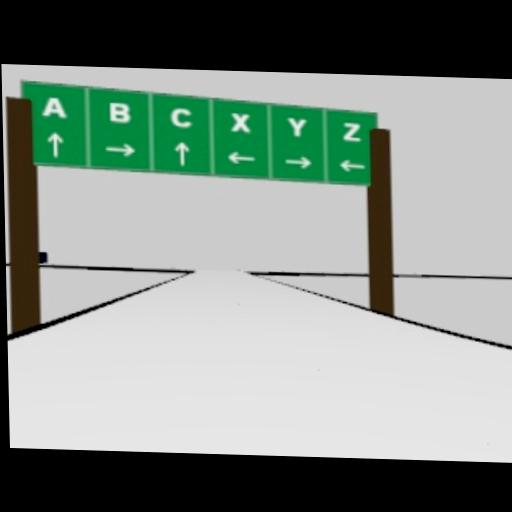A: (41, 97, 66, 118)
B: (109, 102, 130, 123)
C: (171, 106, 192, 127)
Left: (225, 150, 254, 164), (337, 158, 366, 172)
Right: (105, 142, 136, 157), (283, 156, 312, 170)
Straight: (45, 130, 63, 157), (175, 141, 190, 166)
X: (229, 112, 250, 132)
Y: (286, 116, 307, 137)
Z: (341, 121, 362, 142)
